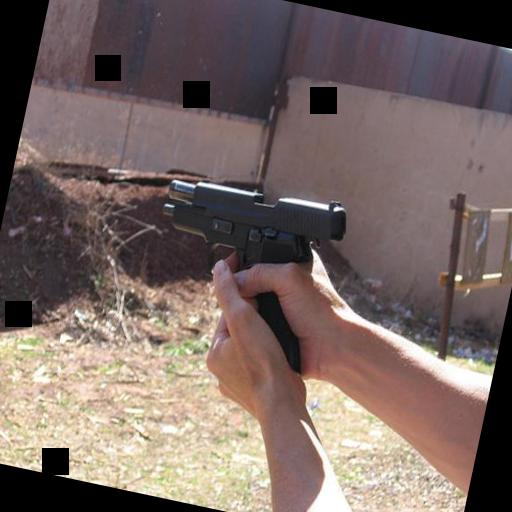Handgun: (130, 164, 348, 378)
